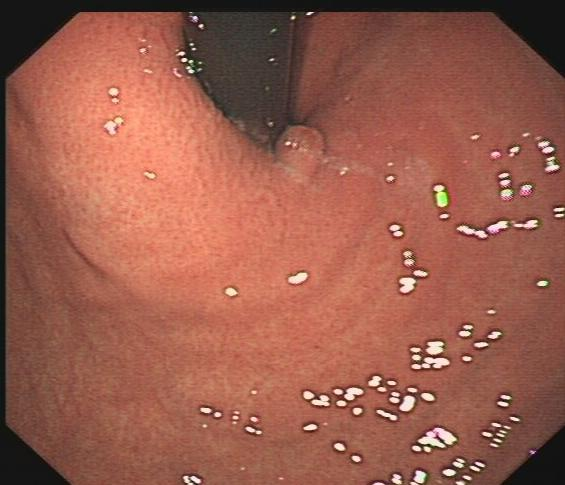Polyp: (274, 124, 332, 181)
